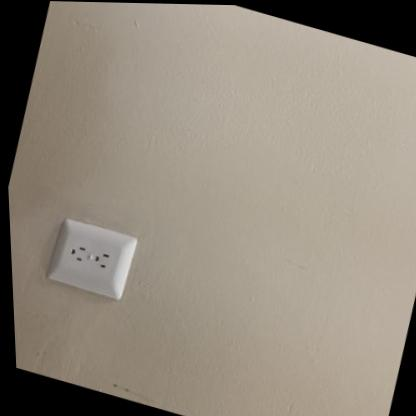OUTLET: (39, 212, 142, 303)
